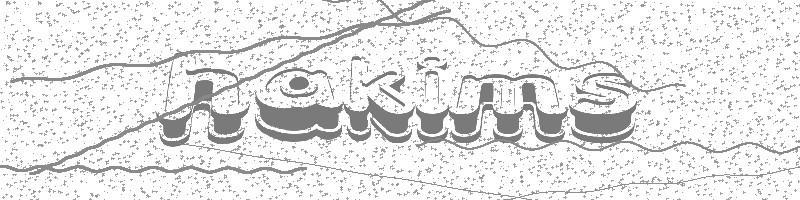a: (248, 63, 348, 140)
h: (159, 46, 251, 142)
i: (412, 52, 455, 149)
k: (347, 51, 412, 149)
m: (449, 73, 568, 146)
s: (571, 68, 641, 146)
